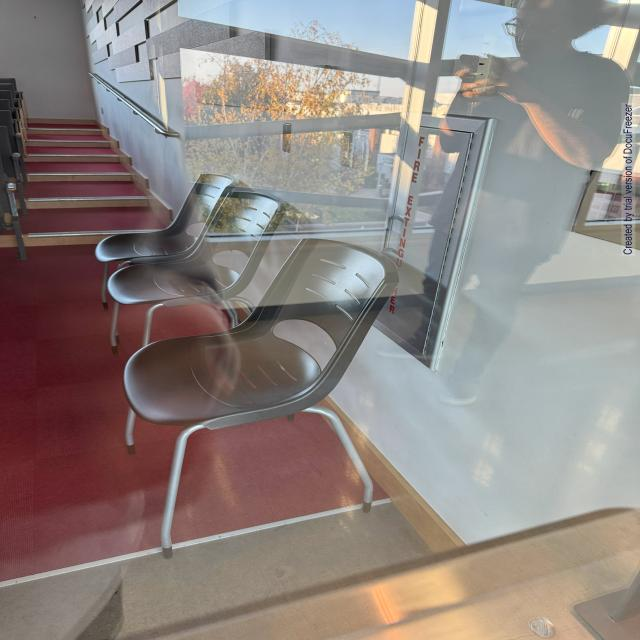chair: (101, 225, 432, 578)
